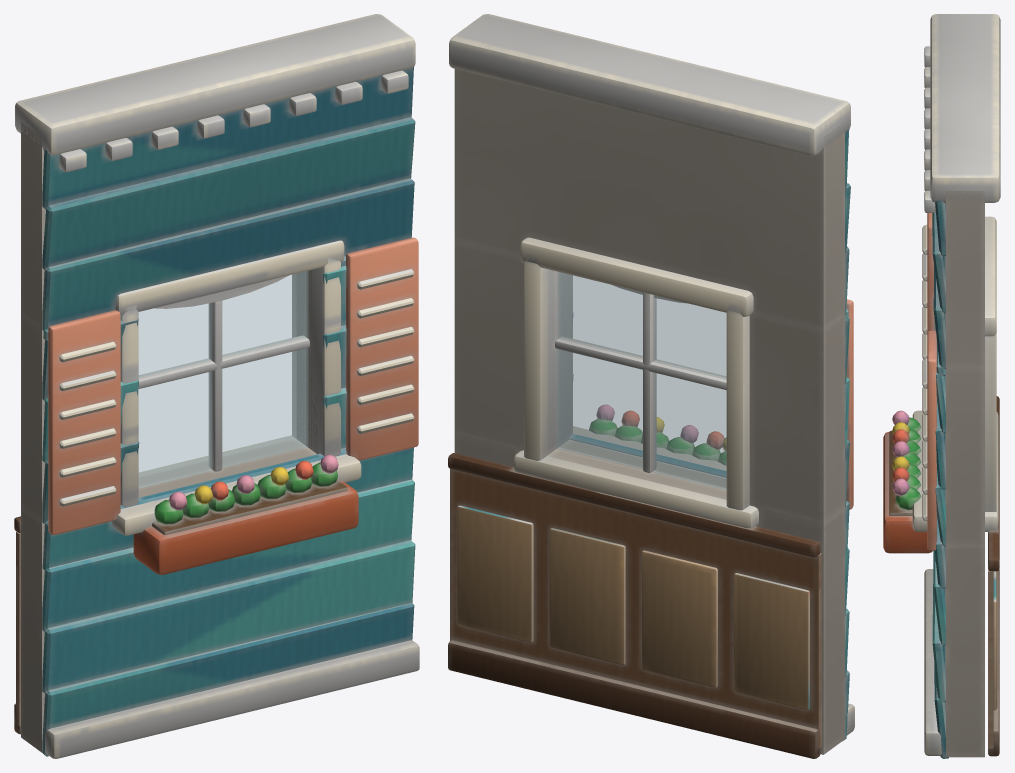
The model's file is wall_window.glb.
3 renders of one model, left to right at view 1: azimuth 30°, elevation 25°; view 2: azimuth 150°, elevation 25°; view 3: azimuth 270°, elevation 25°, orthographic. The views are drawn at different scales.
Visible parts, largest first — view 1: SM_WallWindow; view 2: SM_WallWindow; view 3: SM_WallWindow.
Part boxes in pixels (x1,y1,x2,y2): SM_WallWindow: (14, 14, 419, 758); SM_WallWindow: (448, 14, 854, 758); SM_WallWindow: (883, 14, 1000, 758).
Size of what is drawn, in the model's own units: 2 by 3.3 by 0.6.
2 materials, 1 textured.
